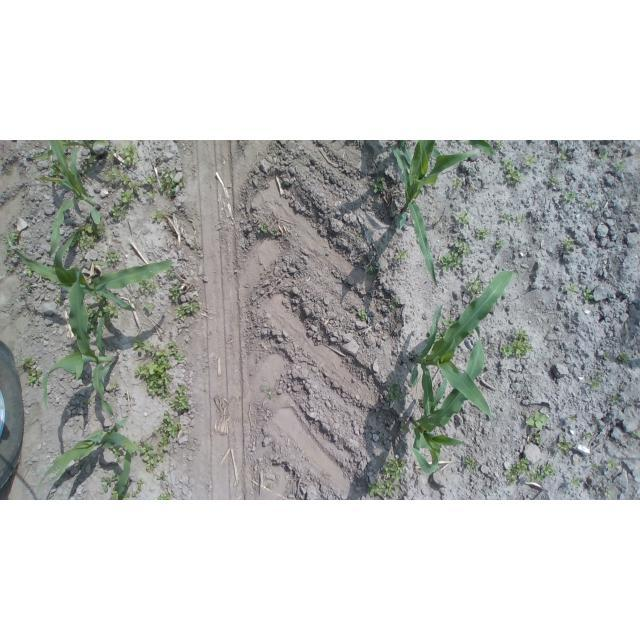Maize: (411, 269, 522, 419), (8, 222, 173, 312), (41, 259, 127, 427), (393, 140, 480, 286), (410, 325, 485, 475), (38, 418, 149, 500), (39, 141, 102, 256), (398, 140, 494, 166), (27, 141, 111, 164)
Weeds: (131, 336, 177, 402), (499, 329, 533, 358), (68, 224, 97, 251), (159, 168, 185, 197), (368, 478, 401, 499), (504, 458, 529, 483), (501, 159, 524, 185), (159, 411, 181, 438), (139, 440, 157, 472), (169, 385, 191, 411), (383, 457, 406, 481), (530, 462, 555, 482), (121, 142, 140, 167), (388, 382, 407, 407), (524, 412, 549, 431), (439, 251, 461, 271), (101, 470, 121, 491), (464, 277, 483, 299), (86, 310, 102, 335), (110, 203, 131, 222), (77, 155, 97, 174), (453, 238, 471, 257), (102, 306, 119, 325), (104, 168, 122, 185), (169, 281, 183, 302), (26, 368, 42, 386), (185, 298, 202, 314), (556, 438, 572, 454), (138, 277, 156, 291), (465, 455, 480, 471), (49, 162, 63, 179), (158, 433, 171, 451), (120, 189, 135, 204), (372, 177, 386, 193), (111, 444, 124, 461), (562, 237, 575, 252), (455, 212, 471, 224), (133, 480, 144, 497), (106, 146, 119, 160), (97, 221, 108, 237), (434, 330, 447, 343), (583, 288, 594, 303), (175, 305, 185, 321), (152, 210, 164, 223), (105, 253, 119, 264), (20, 356, 34, 367), (563, 192, 577, 203), (443, 317, 457, 328), (584, 199, 596, 211), (395, 249, 407, 261), (10, 230, 21, 243), (525, 155, 536, 168), (93, 295, 108, 304), (145, 176, 157, 187), (567, 283, 579, 294), (571, 476, 581, 489), (477, 229, 491, 238), (175, 353, 186, 364), (589, 379, 600, 390), (452, 177, 462, 189), (501, 213, 513, 223), (608, 458, 617, 471), (120, 175, 131, 185), (399, 423, 409, 434), (128, 182, 140, 191), (359, 308, 368, 320), (557, 151, 567, 161), (157, 493, 171, 500), (118, 492, 130, 500), (144, 301, 153, 311), (598, 152, 607, 162), (164, 272, 174, 281), (69, 346, 80, 354), (389, 298, 397, 309), (605, 491, 616, 499), (158, 472, 167, 481), (496, 140, 505, 149), (549, 176, 558, 185), (146, 189, 156, 197), (618, 354, 628, 362), (158, 451, 165, 462), (518, 214, 526, 223), (616, 162, 624, 171), (584, 432, 593, 440), (534, 432, 540, 444), (268, 388, 274, 399), (496, 239, 504, 247), (261, 223, 268, 232), (27, 265, 33, 275), (109, 380, 116, 388), (568, 415, 576, 422), (21, 245, 28, 252), (196, 245, 203, 252), (3, 236, 9, 244), (3, 248, 11, 254), (271, 228, 277, 236), (366, 266, 373, 272), (603, 354, 610, 360), (613, 395, 619, 402), (633, 431, 640, 437), (592, 464, 599, 470), (84, 304, 92, 309), (25, 283, 31, 289), (56, 296, 62, 302), (190, 222, 196, 228), (6, 167, 11, 174), (84, 399, 90, 404), (356, 232, 360, 238), (72, 372, 77, 376), (152, 430, 156, 435), (598, 373, 602, 378), (10, 269, 14, 272)
